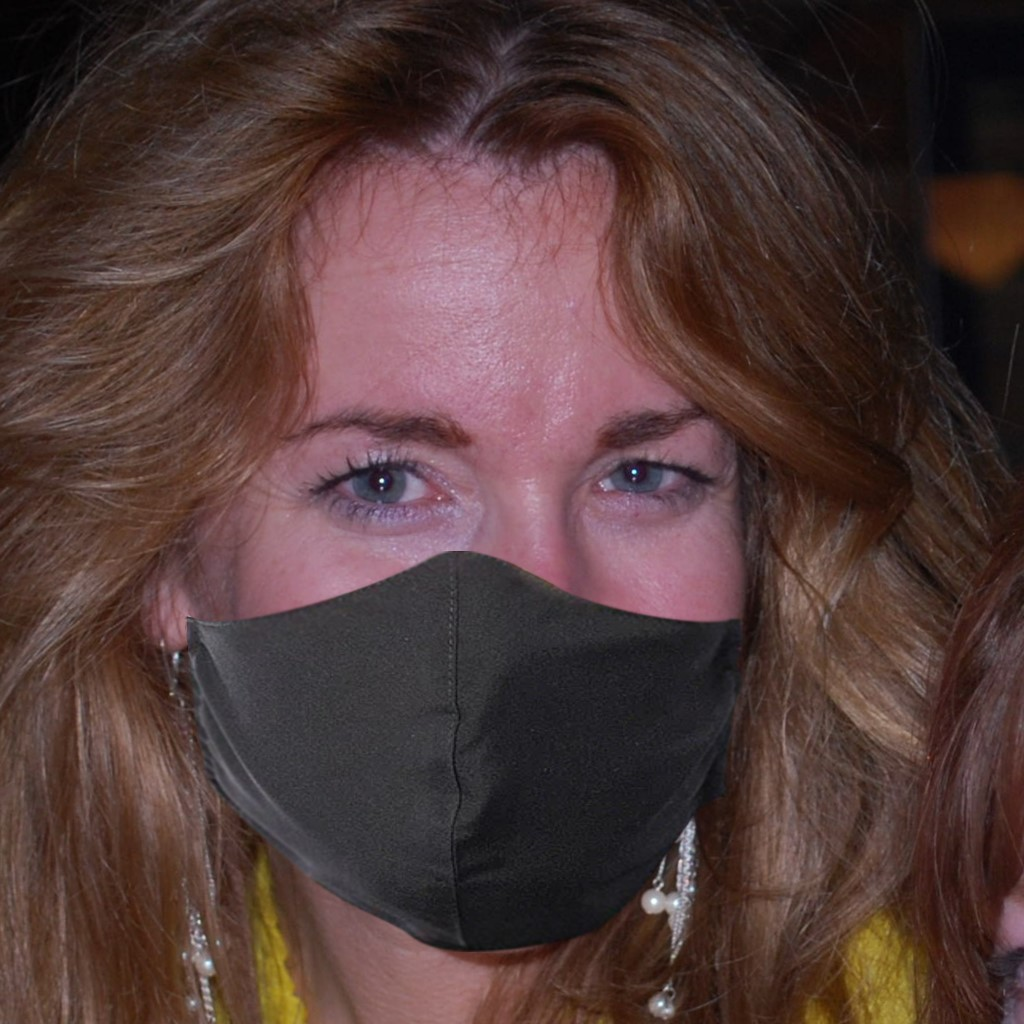con_mascara: (151, 91, 759, 957)
